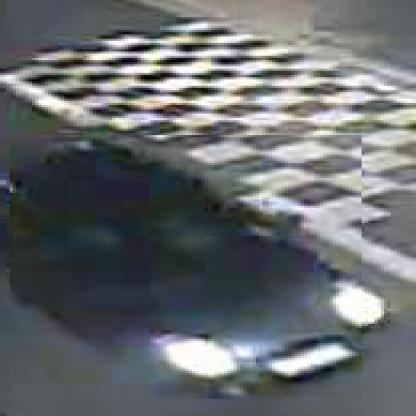car: (8, 136, 363, 402)
